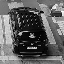mobil: (8, 5, 50, 58)
